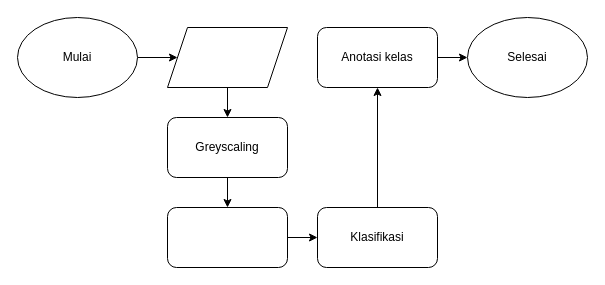
The diagram is 605 pixels wide and 285 high, and some of its shapes have lost their labels. The shapes that lost their labels are listed below. From the top down, each one's centre as x and y in pixels, then its label:
At point 227,57: "Input Image".
At point 227,237: "Pembuatan Integral Image".
